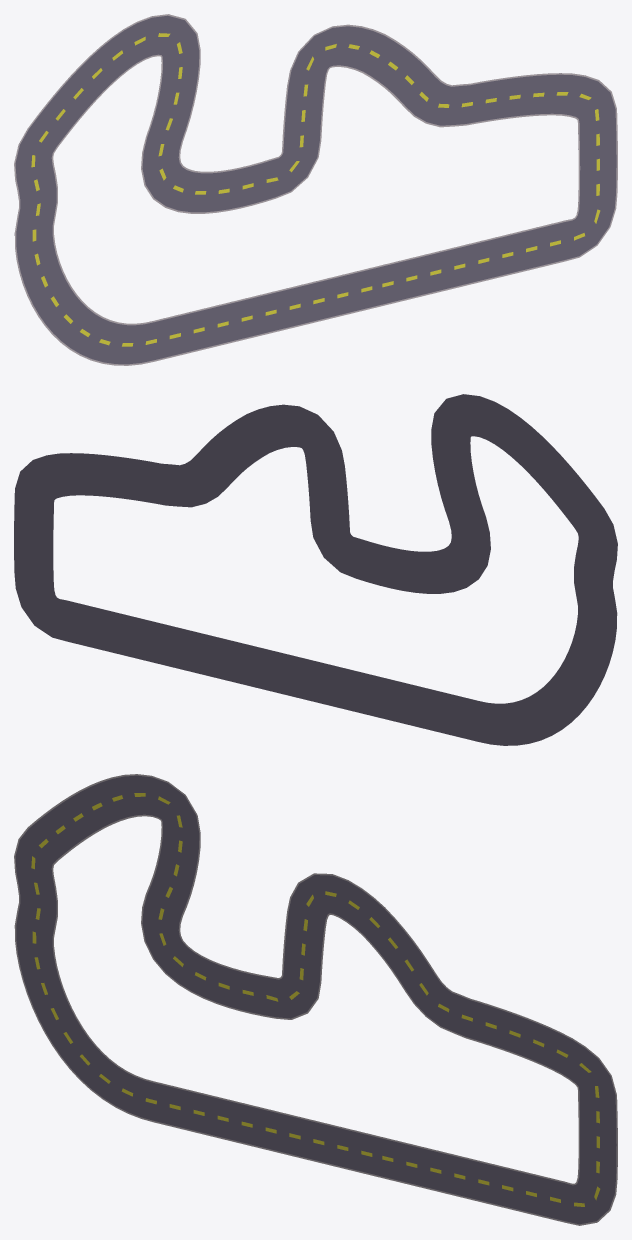
The model's file is track.obj.
3 renders of one model, top to bottom at view 1: azimuth 30°, elevation 25°; view 2: azimuth 150°, elevation 25°; view 3: azimuth 330°, elevation 25°, orthographic.
Bounding box in the file's own units: 16.4 × 8.98 × 0.002.
